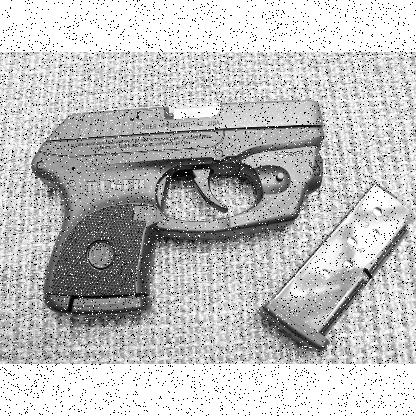gun: (29, 100, 323, 316)
